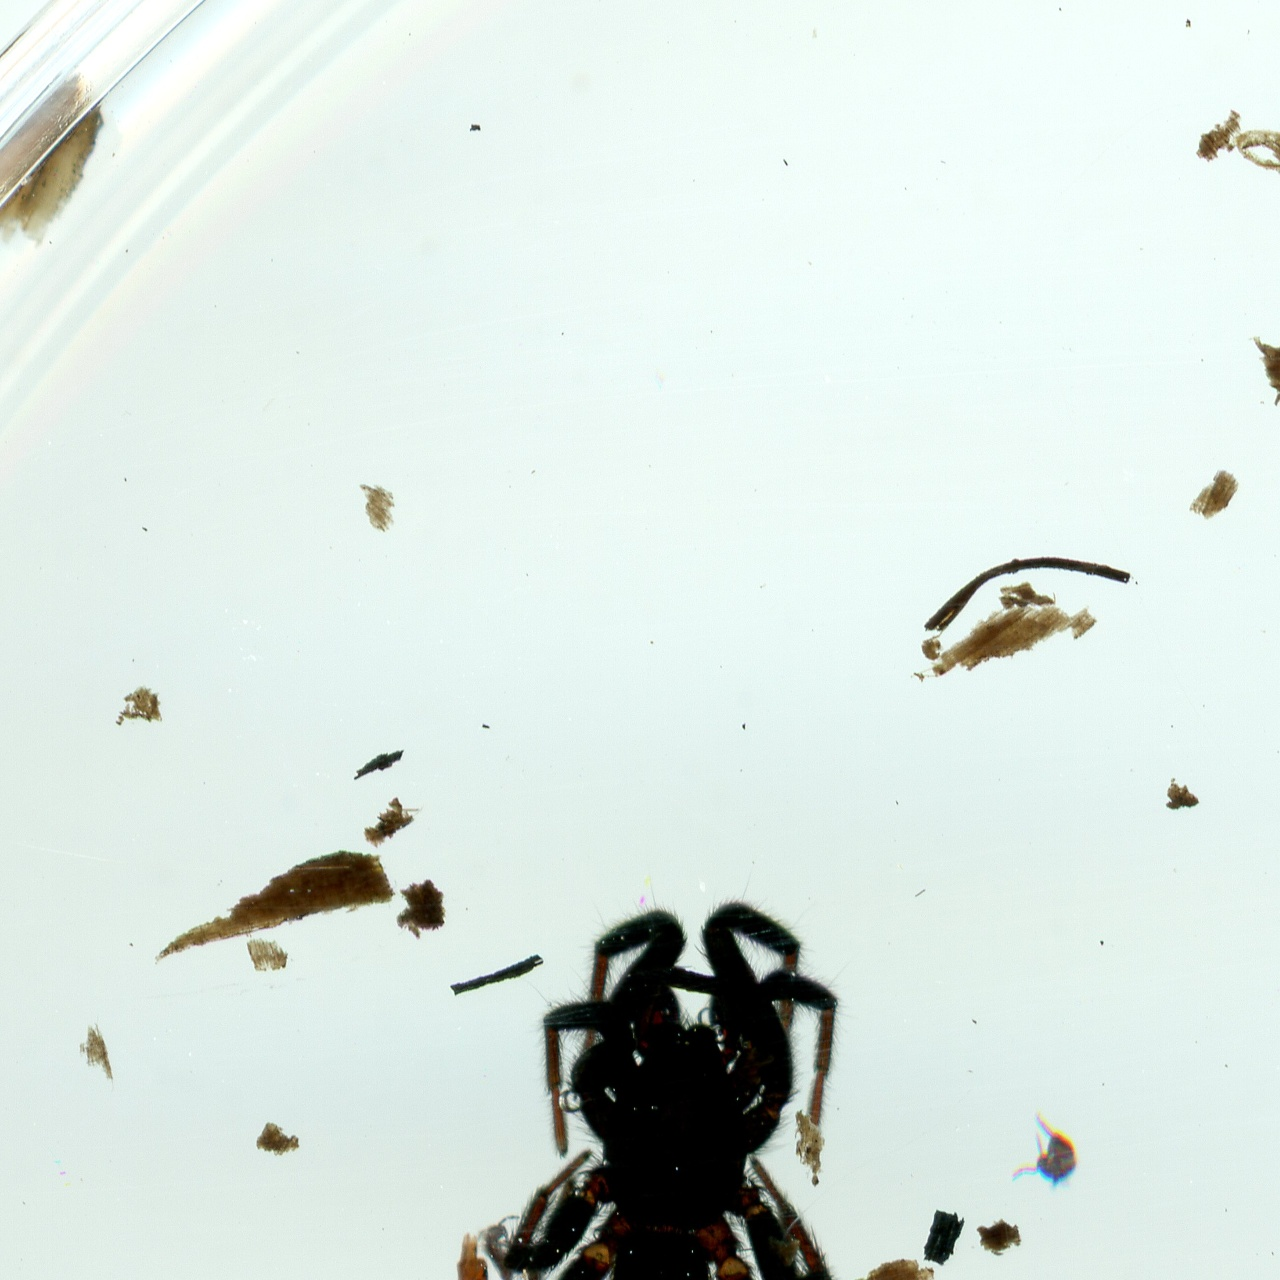arthropod: (472, 865, 863, 1280), (1011, 1110, 1085, 1194), (469, 1201, 523, 1280)
